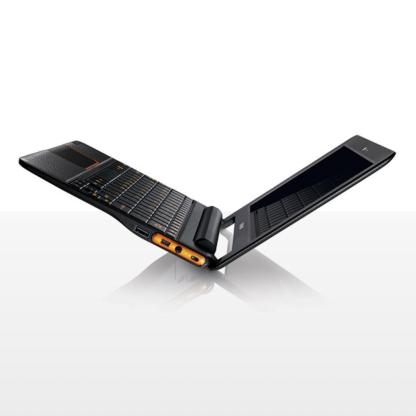board: (17, 136, 394, 270)
